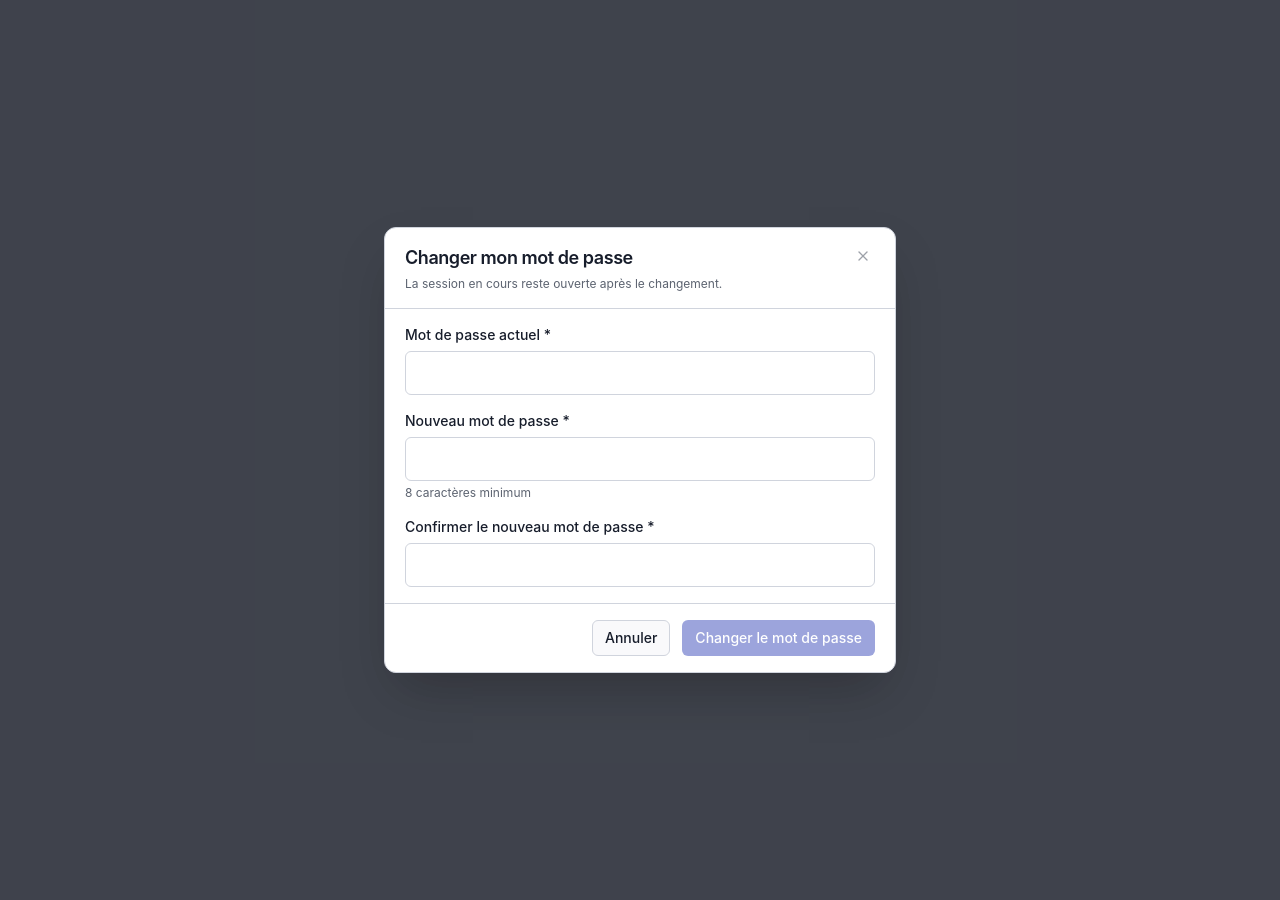
Scenario: ChangePasswordModal › refuse localement un nouveau mot de passe trop court, sans appeler l’API
This screenshot has width=1280, height=900.
In the password field named "old-password": x=640, y=373 [405, 351, 875, 395], type "ancienmdp"
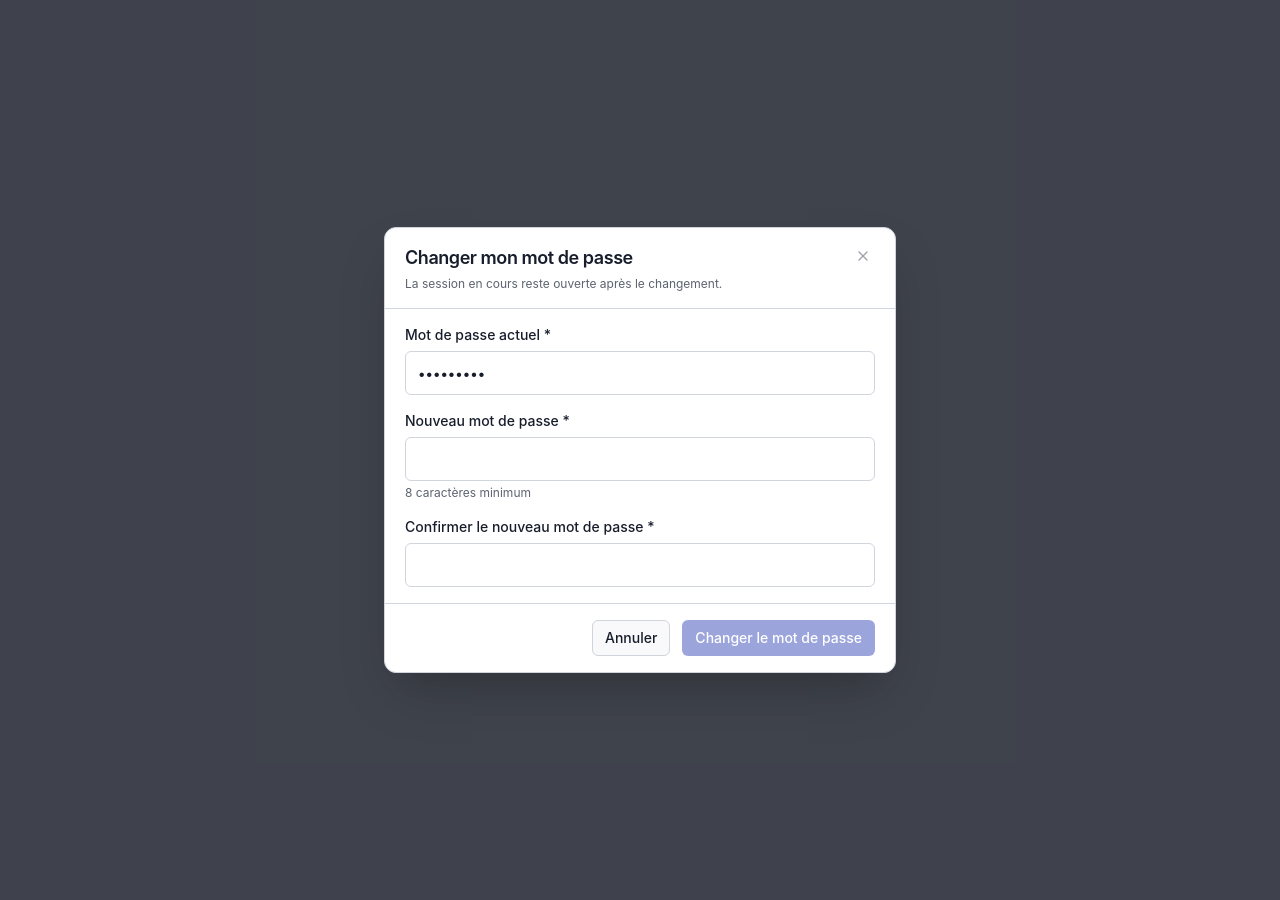
In the password field named "new-password": x=640, y=459 [405, 437, 875, 481], type "court"
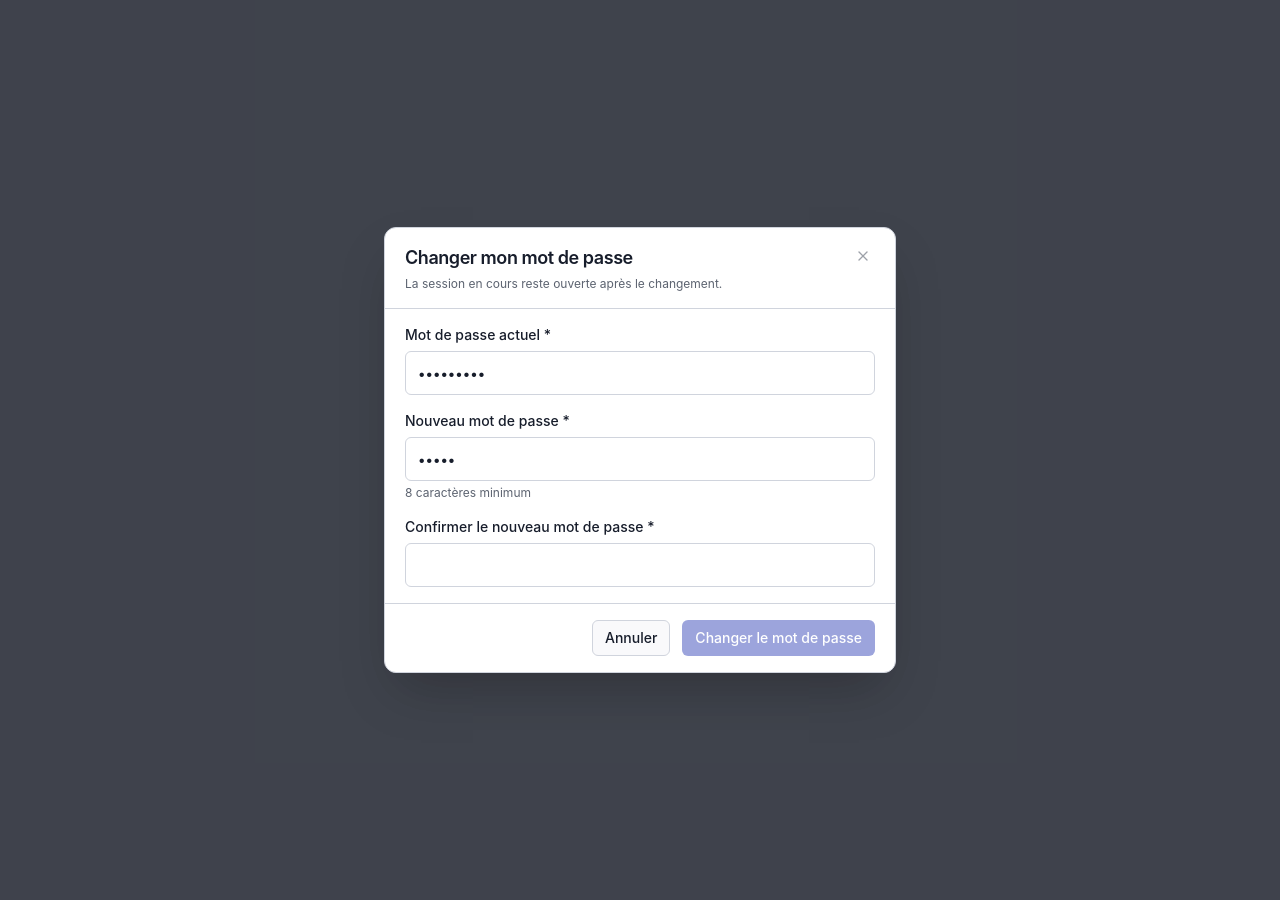
In the password field named "confirm-password": x=640, y=565 [405, 543, 875, 587], type "court"
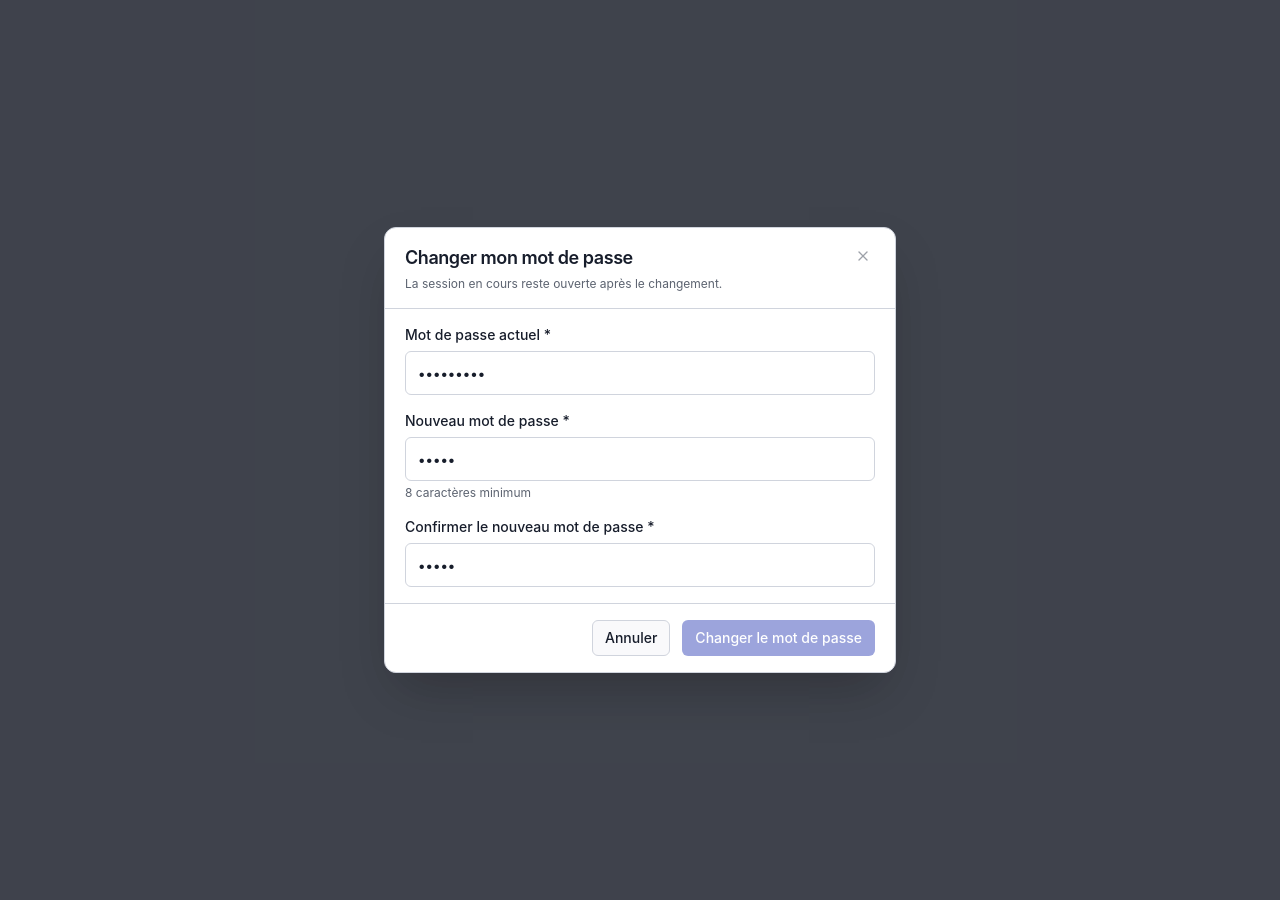
Submit the form with id "change-password", box [405, 325, 875, 587]
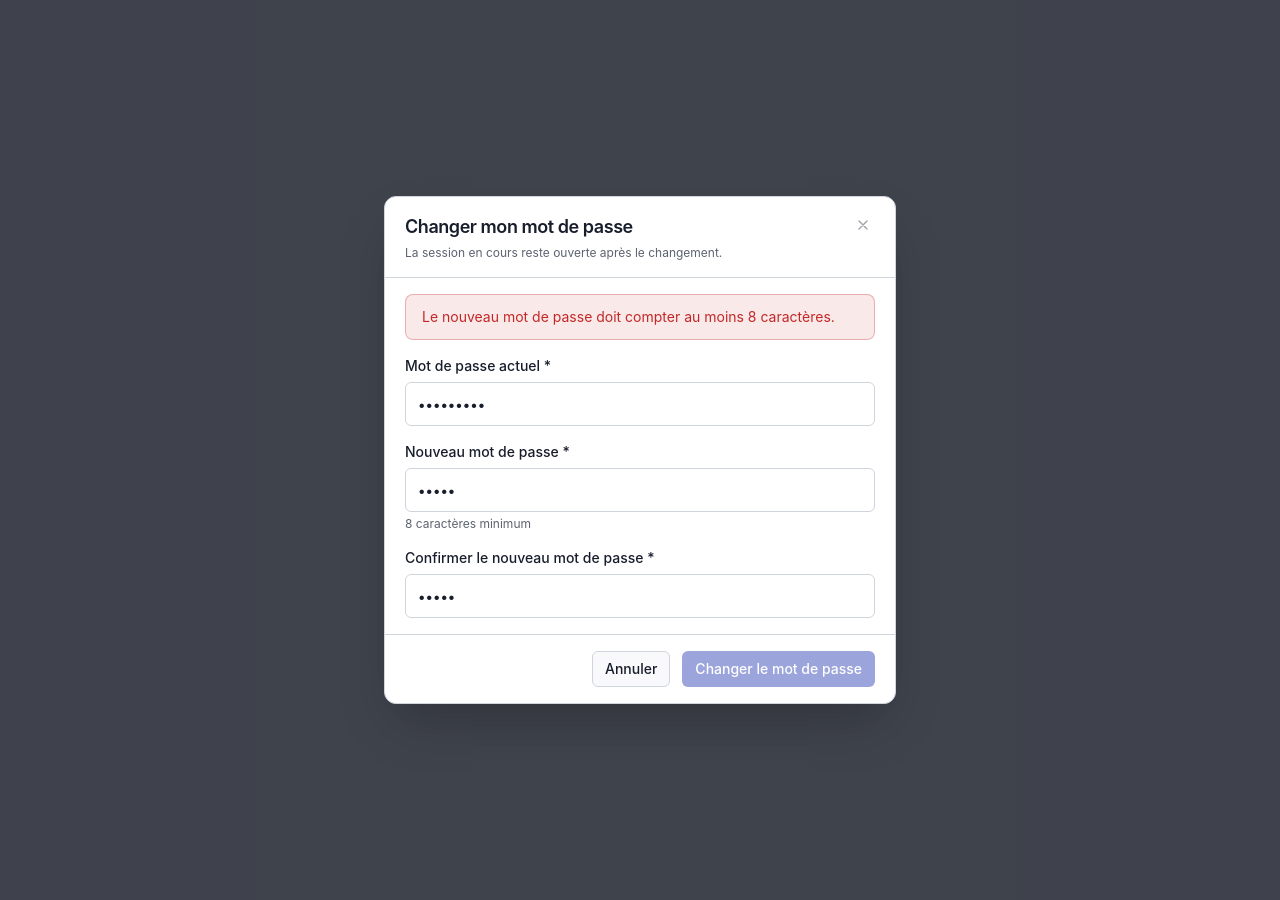
Result: the message "Le nouveau mot de passe doit compter au moins 8 caractères." is shown at [405, 294, 875, 340]
